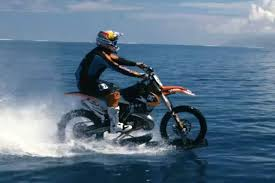helmet: (93, 25, 126, 55)
